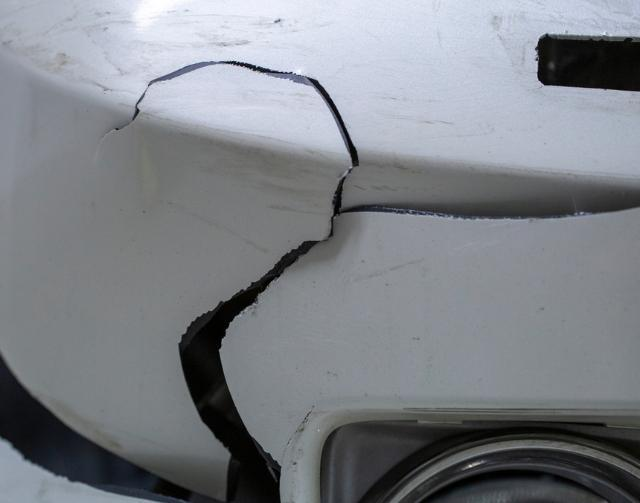Bumper: (20, 17, 547, 502)
